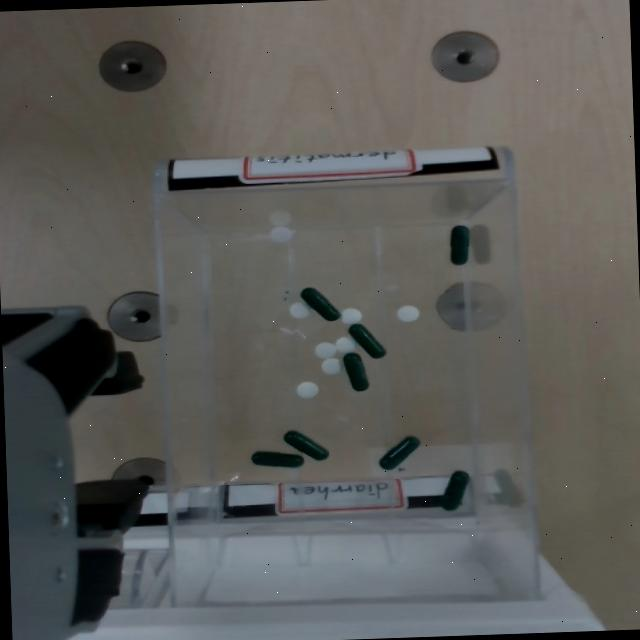ganakan_tab: (292, 379, 319, 399), (394, 304, 420, 324), (338, 306, 363, 325), (268, 226, 293, 244), (312, 341, 336, 359), (287, 300, 310, 318), (333, 336, 356, 353), (319, 358, 343, 374)
monodoxy_cap: (376, 435, 422, 470), (298, 285, 341, 322), (347, 322, 388, 360), (282, 428, 329, 461), (437, 470, 471, 512), (379, 435, 419, 468), (300, 287, 339, 320), (284, 430, 328, 459), (348, 323, 385, 357), (439, 470, 469, 510), (342, 352, 371, 393), (251, 449, 304, 470), (342, 351, 368, 391), (446, 224, 471, 265), (251, 450, 303, 467), (449, 225, 469, 264)
